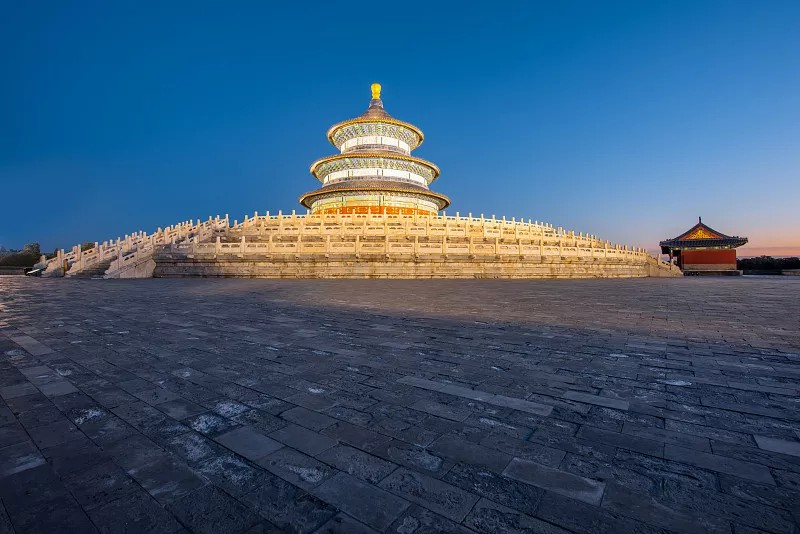Heaven: (300, 81, 452, 216)
